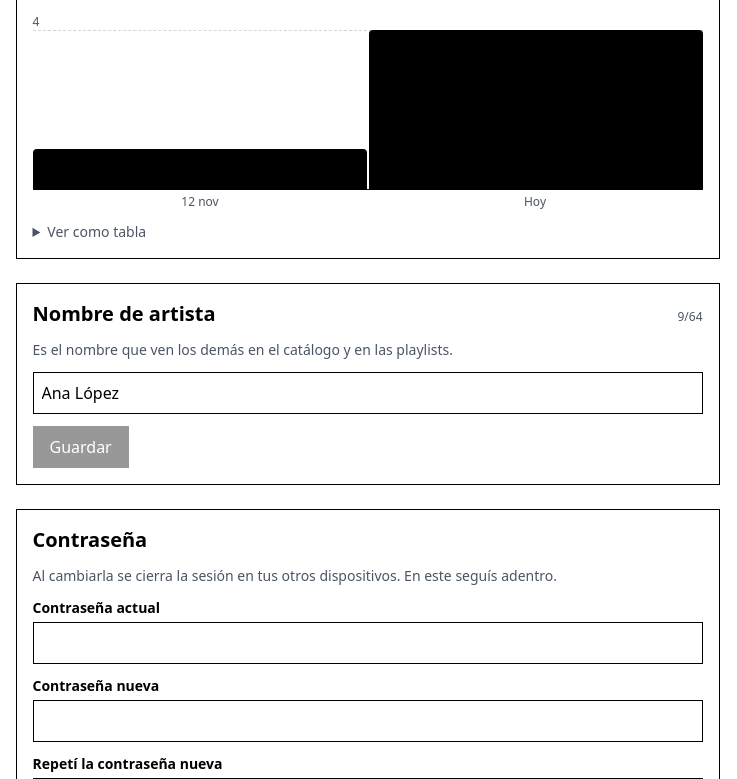
Test: perfil › guarda el nombre y actualiza la cabecera
(page scrolled)
Replace the text in the field labelled "Nombre de artista" with "  Ana Nueva " at (368, 393), box top-left (32, 372), bottom-right (702, 414)
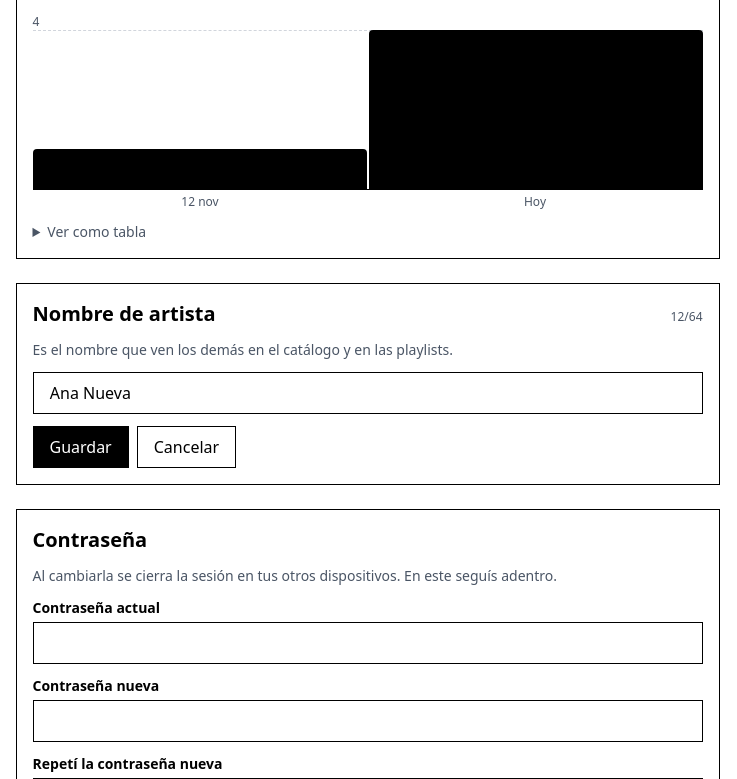
Click the button "Guardar" at (81, 447), box top-left (32, 426), bottom-right (129, 468)
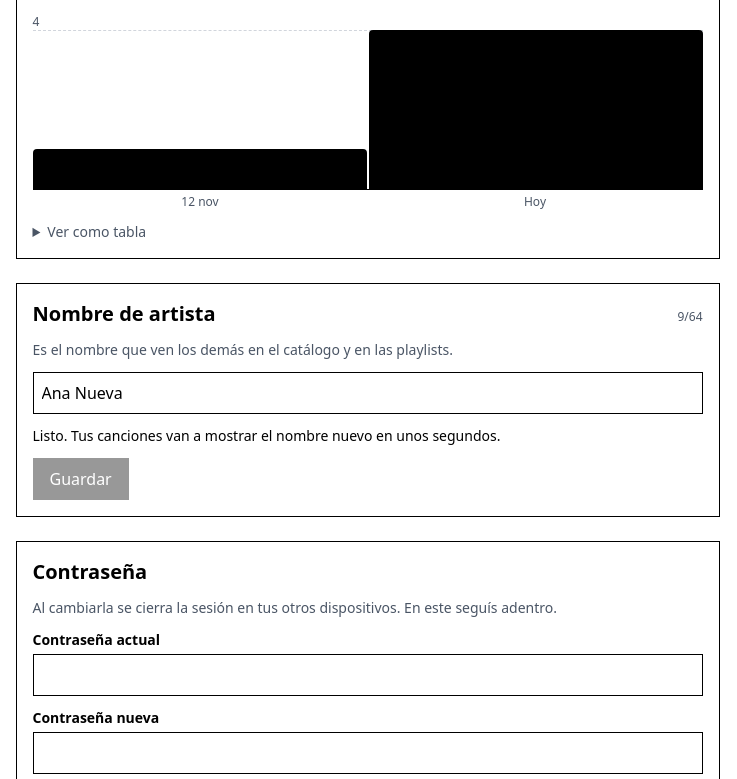
Expected: the message shows "Listo", top-left (32, 426), bottom-right (500, 445)
